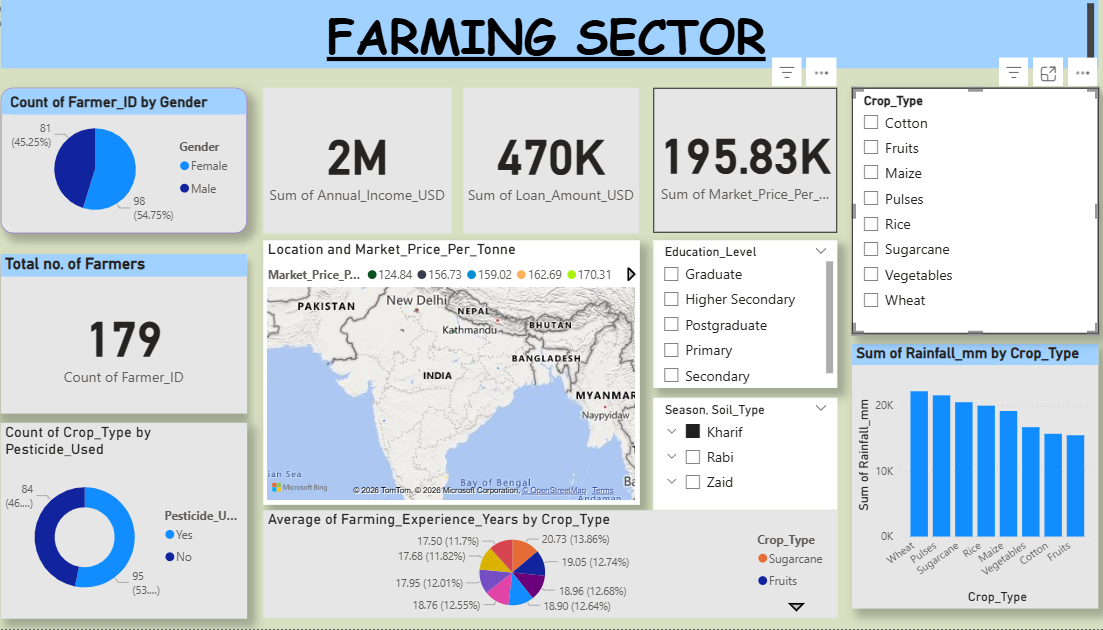

Layout of this report page (visuals, bound fields, positions):
{"tool":"powerbi","page":{"name":"Page 1","canvas":[1280,720],"ordinal":0},"visuals":[{"type":"card","title":"Total no. of Farmers","fields":{"Values":["CountNonNull(Agriculture_Data.Farmer_ID)"]},"box":[9.8,291,281.3,182.2],"z":1000},{"type":"pieChart","fields":{"Category":["Agriculture_Data.Gender"],"Y":["CountNonNull(Agriculture_Data.Farmer_ID)"]},"box":[9.8,101.5,281.3,166.3],"z":2000},{"type":"actionButton","box":[0,0,100,40],"z":3000},{"type":"slicer","fields":{"Values":["Agriculture_Data.Education_Level"]},"box":[755.7,275.1,210.3,168.8],"z":4000},{"type":"lineStackedColumnComboChart","fields":{"Y":["Sum(Agriculture_Data.Rainfall_mm)"],"Category":["Agriculture_Data.Crop_Type"]},"box":[983.2,395,281.3,302],"z":5000},{"type":"textbox","box":[9.8,0,1254.6,79.5],"z":6000},{"type":"filledMap","fields":{"Category":["Agriculture_Data.Location"],"Series":["Agriculture_Data.Market_Price_Per_Tonne"]},"box":[309.4,275.1,430.4,302],"z":7000},{"type":"card","fields":{"Values":["Sum(Agriculture_Data.Annual_Income_USD)"]},"box":[309.4,101.5,215,166.3],"z":8000},{"type":"card","fields":{"Values":["Sum(Agriculture_Data.Loan_Amount_USD)"]},"box":[539.3,101.5,200.5,166.3],"z":9000},{"type":"card","fields":{"Values":["Sum(Agriculture_Data.Market_Price_Per_Tonne)"]},"box":[755.7,101.5,210.3,165.1],"z":10000},{"type":"donutChart","fields":{"Y":["CountNonNull(Agriculture_Data.Crop_Type)"],"Category":["Agriculture_Data.Pesticide_Used"]},"box":[9.8,484.2,281.3,223.8],"z":10001},{"type":"slicer","fields":{"Values":["Agriculture_Data.Season","Agriculture_Data.Soil_Type"]},"box":[755.7,456.1,210.3,128.4],"z":10002},{"type":"pieChart","fields":{"Category":["Agriculture_Data.Crop_Type"],"Y":["Avg(Agriculture_Data.Farming_Experience_Years)"]},"box":[309.4,584.5,656.7,123.5],"z":10003},{"type":"slicer","fields":{"Values":["Agriculture_Data.Crop_Type"]},"box":[983.2,101.5,281.3,281.3],"z":10004}]}

Visuals, with their boxes in screenshot pixels (x1, y1, x2, y2), scaled from the page's 1280x720 canvas onto the 1103x630 screenshot:
"Total no. of Farmers" card: bbox=[8, 255, 251, 414]
pieChart - Agriculture_Data.Gender x CountNonNull(Agriculture_Data.Farmer_ID): bbox=[8, 89, 251, 234]
actionButton: bbox=[0, 0, 86, 35]
slicer - Agriculture_Data.Education_Level: bbox=[651, 241, 832, 388]
lineStackedColumnComboChart - Sum(Agriculture_Data.Rainfall_mm) x Agriculture_Data.Crop_Type: bbox=[847, 346, 1090, 610]
textbox: bbox=[8, 0, 1090, 70]
filledMap - Agriculture_Data.Location x Agriculture_Data.Market_Price_Per_Tonne: bbox=[267, 241, 637, 505]
card - Sum(Agriculture_Data.Annual_Income_USD): bbox=[267, 89, 452, 234]
card - Sum(Agriculture_Data.Loan_Amount_USD): bbox=[465, 89, 637, 234]
card - Sum(Agriculture_Data.Market_Price_Per_Tonne): bbox=[651, 89, 832, 233]
donutChart - CountNonNull(Agriculture_Data.Crop_Type) x Agriculture_Data.Pesticide_Used: bbox=[8, 424, 251, 620]
slicer - Agriculture_Data.Season x Agriculture_Data.Soil_Type: bbox=[651, 399, 832, 511]
pieChart - Agriculture_Data.Crop_Type x Avg(Agriculture_Data.Farming_Experience_Years): bbox=[267, 511, 833, 620]
slicer - Agriculture_Data.Crop_Type: bbox=[847, 89, 1090, 335]
